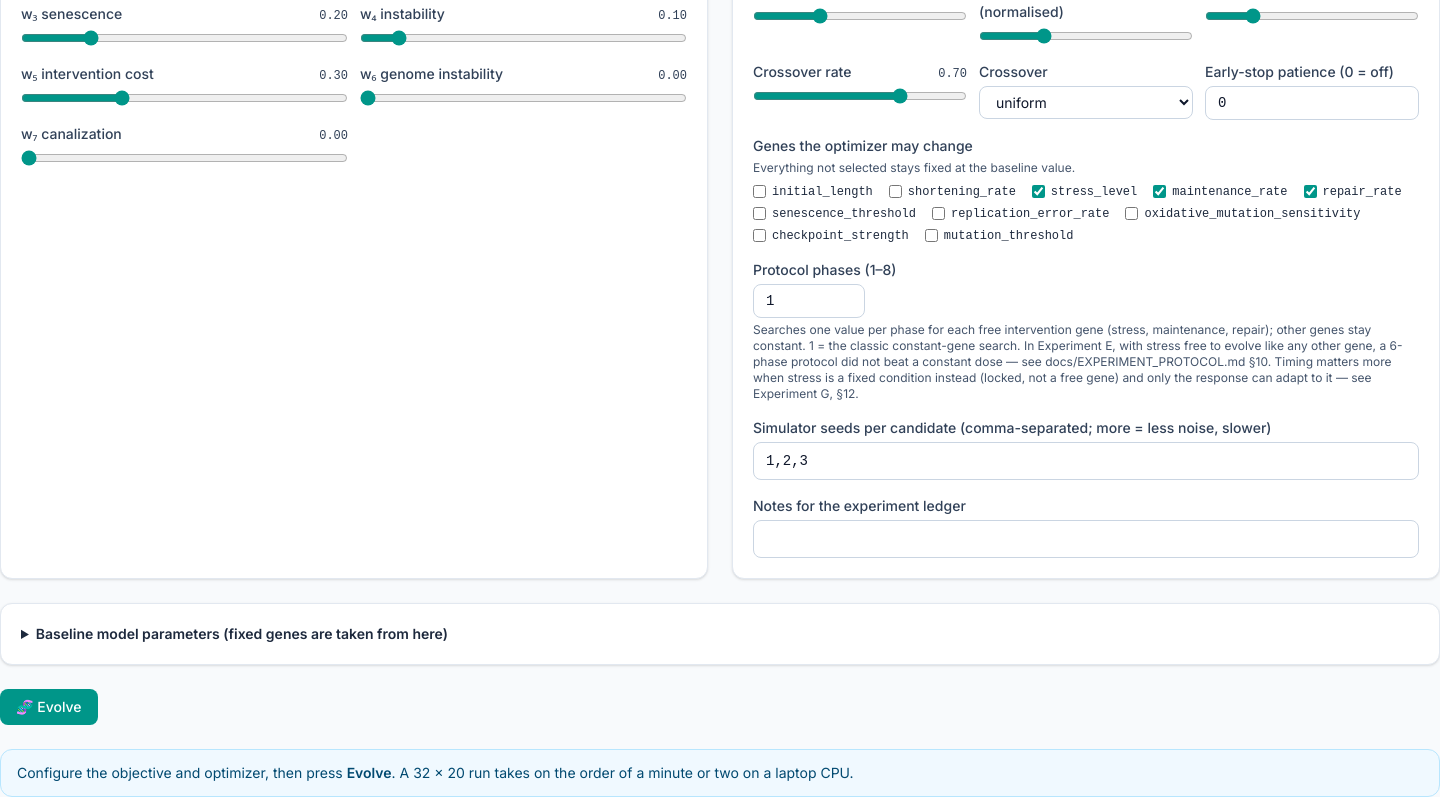
Test case: Evolve page › Stop posts to /stop and a failed job shows its error
The image size is (1440, 797).
(page scrolled)
Click the button "🧬 Evolve".
click(49, 706)  # box x1=0 y1=688 x2=98 y2=724
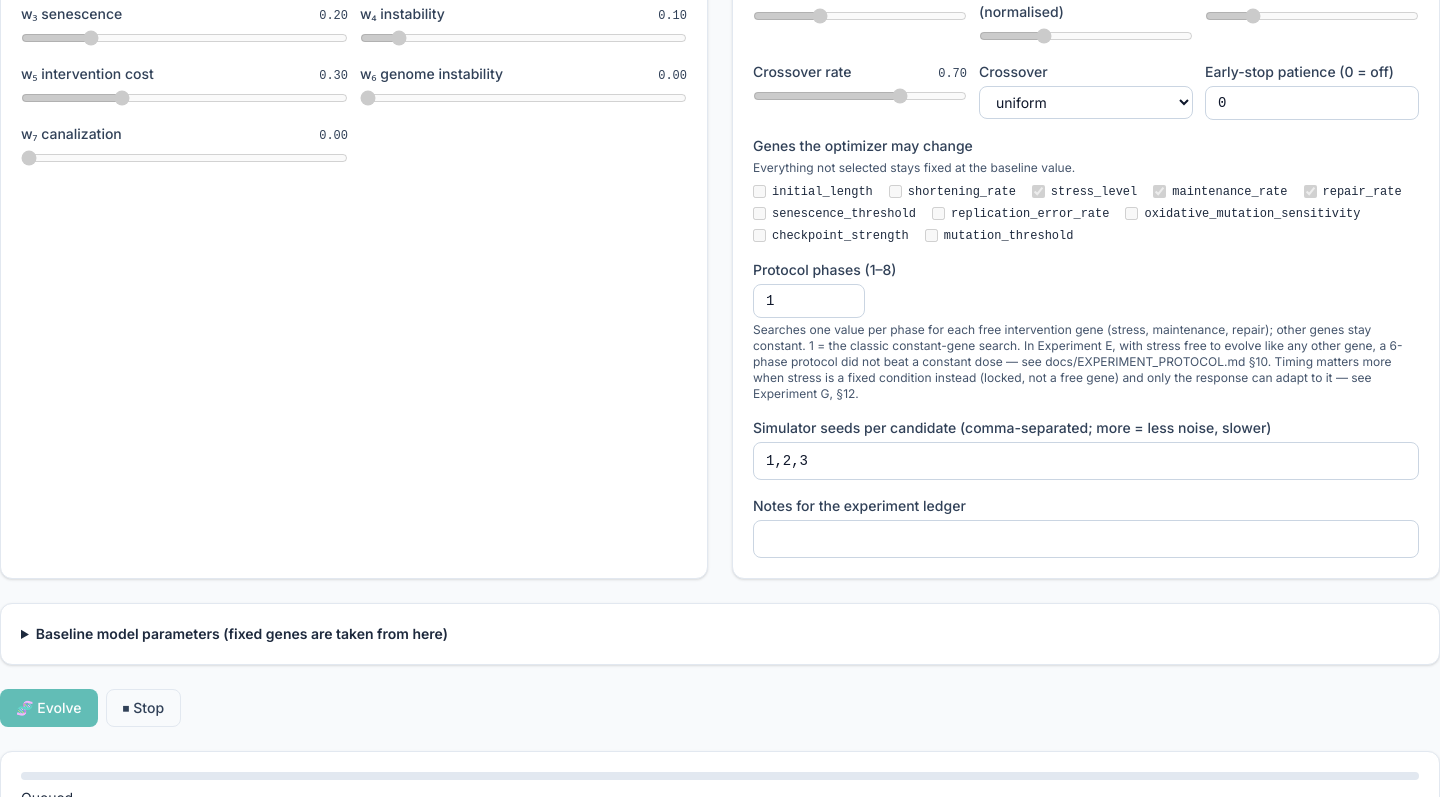
Click the button "⏹ Stop".
click(143, 708)  # box x1=106 y1=688 x2=181 y2=726
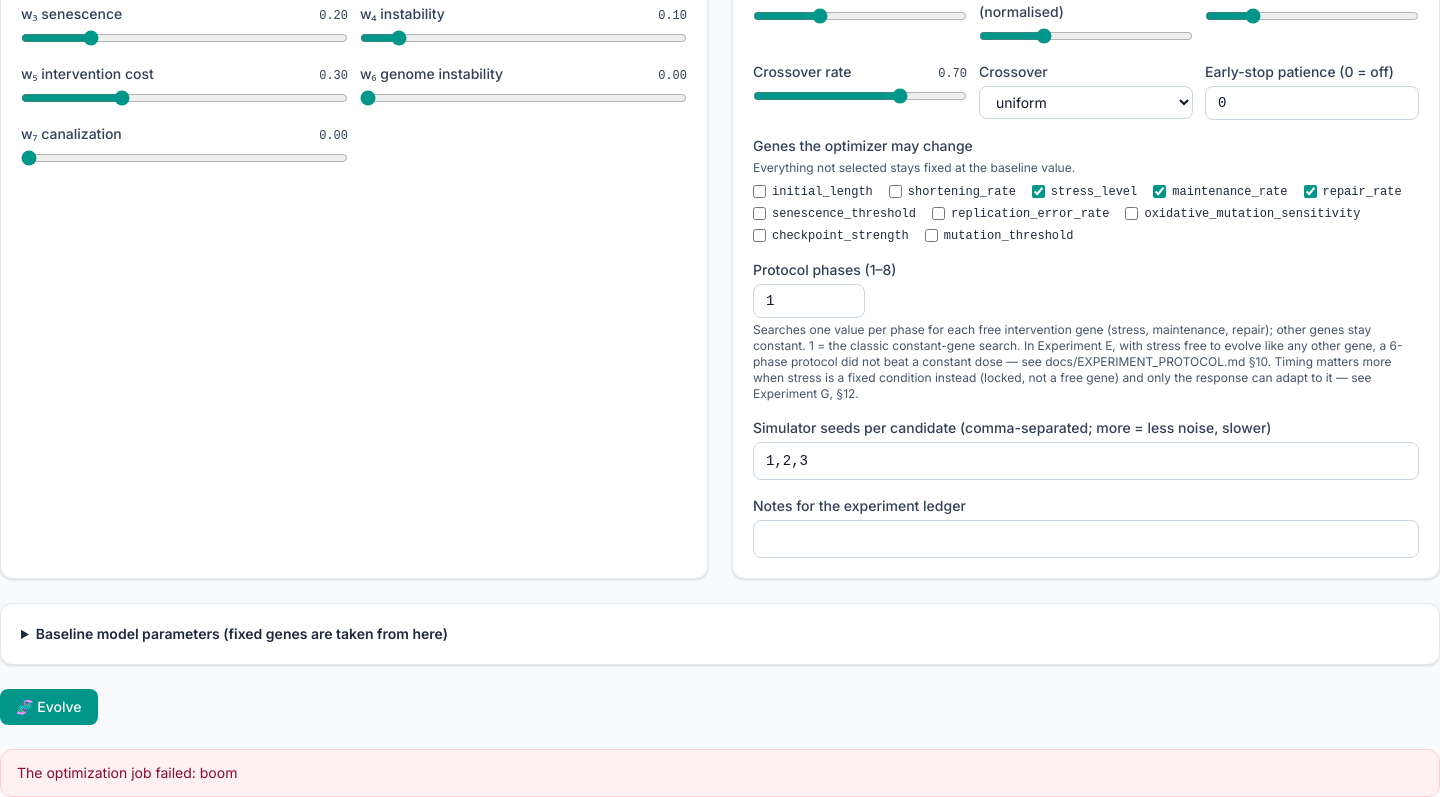
Expected: the text "The optimization job failed: boom" is shown, x1=0 y1=748 x2=1439 y2=796
